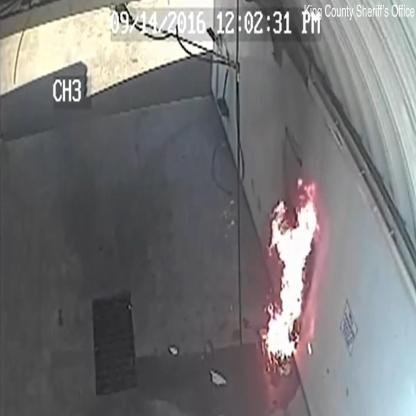fire: (261, 180, 319, 374)
